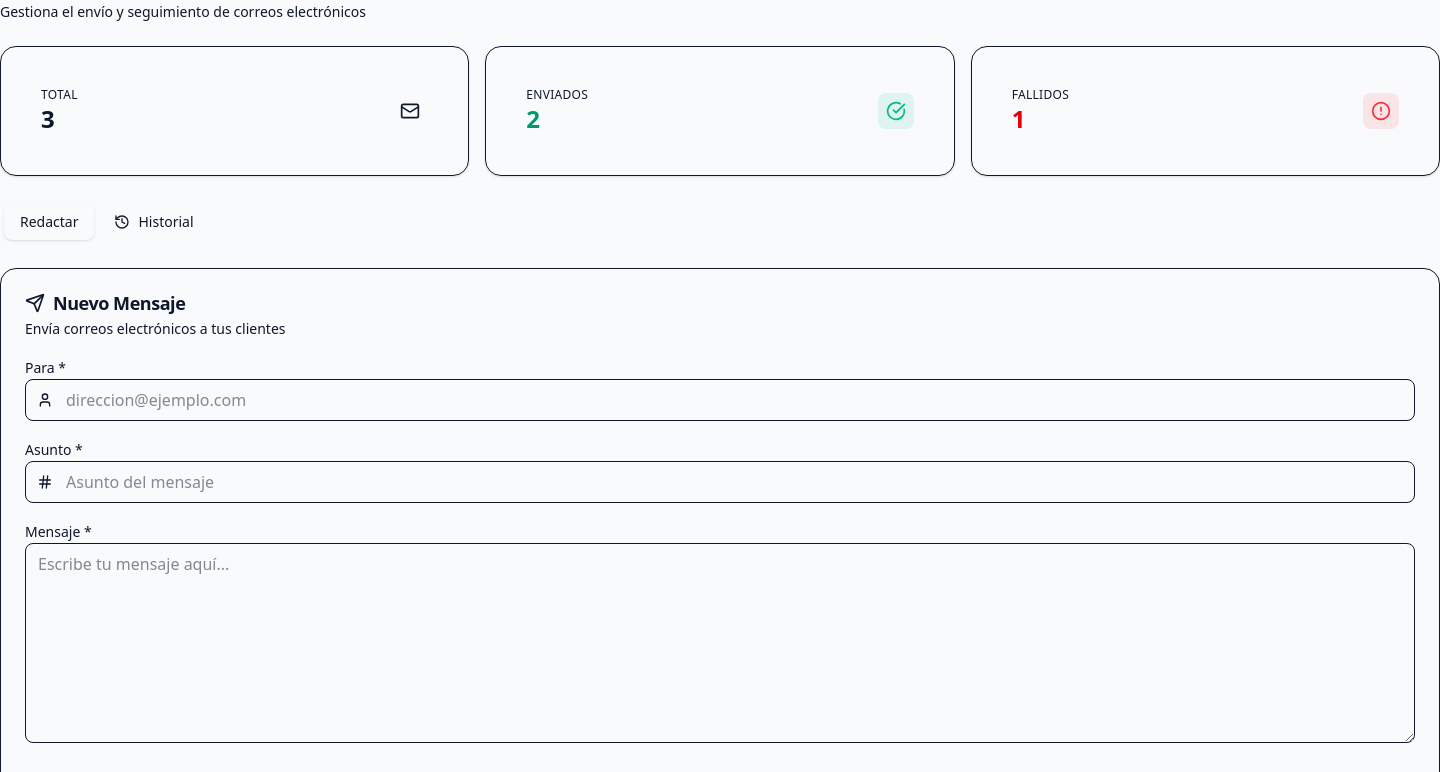
Test: MailPage › debe mostrar error si el email no es válido
Type "correo-malo" into the field with placeholder "direccion@ejemplo.com" at (720, 400), box [25, 379, 1415, 421]
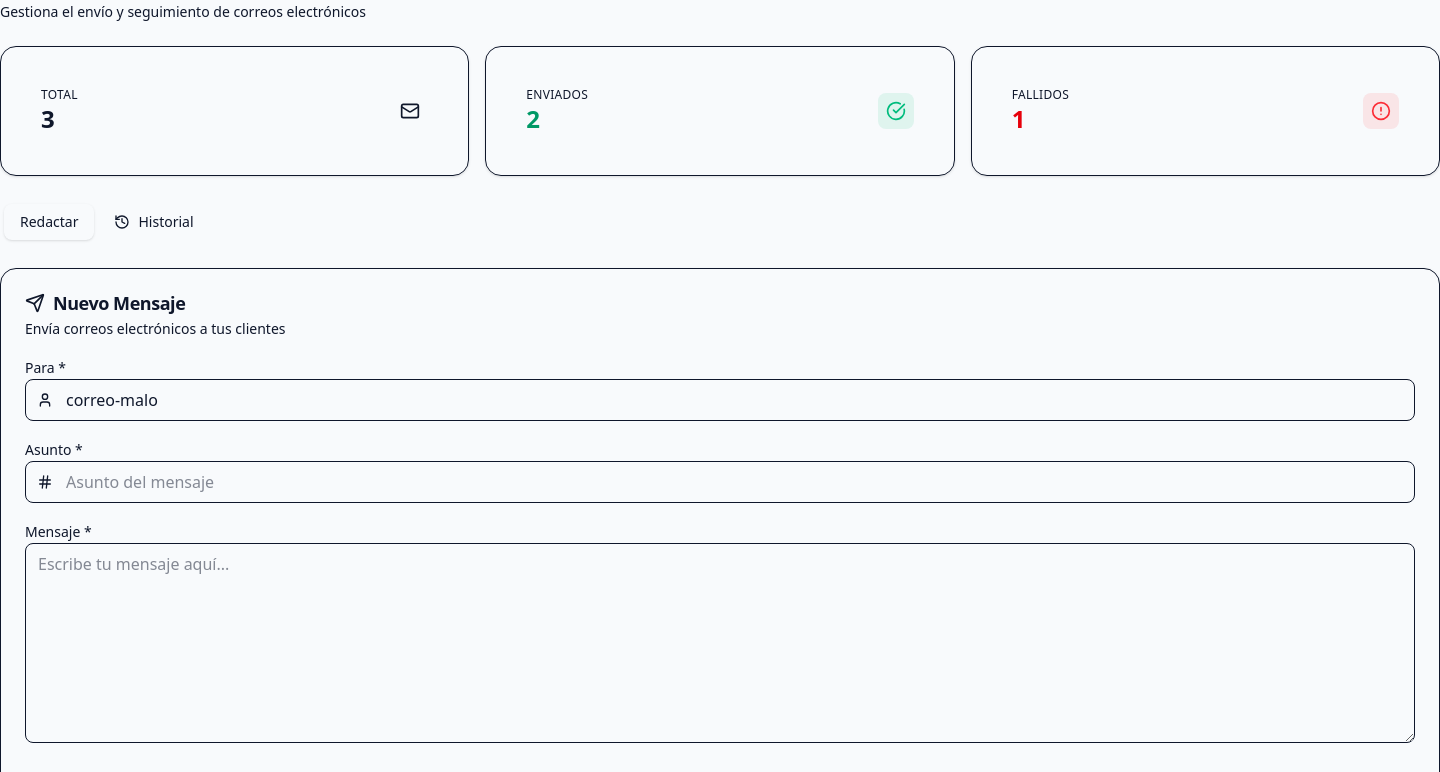
Type "Asunto" into the field with placeholder "Asunto del mensaje" at (720, 482), box [25, 461, 1415, 503]
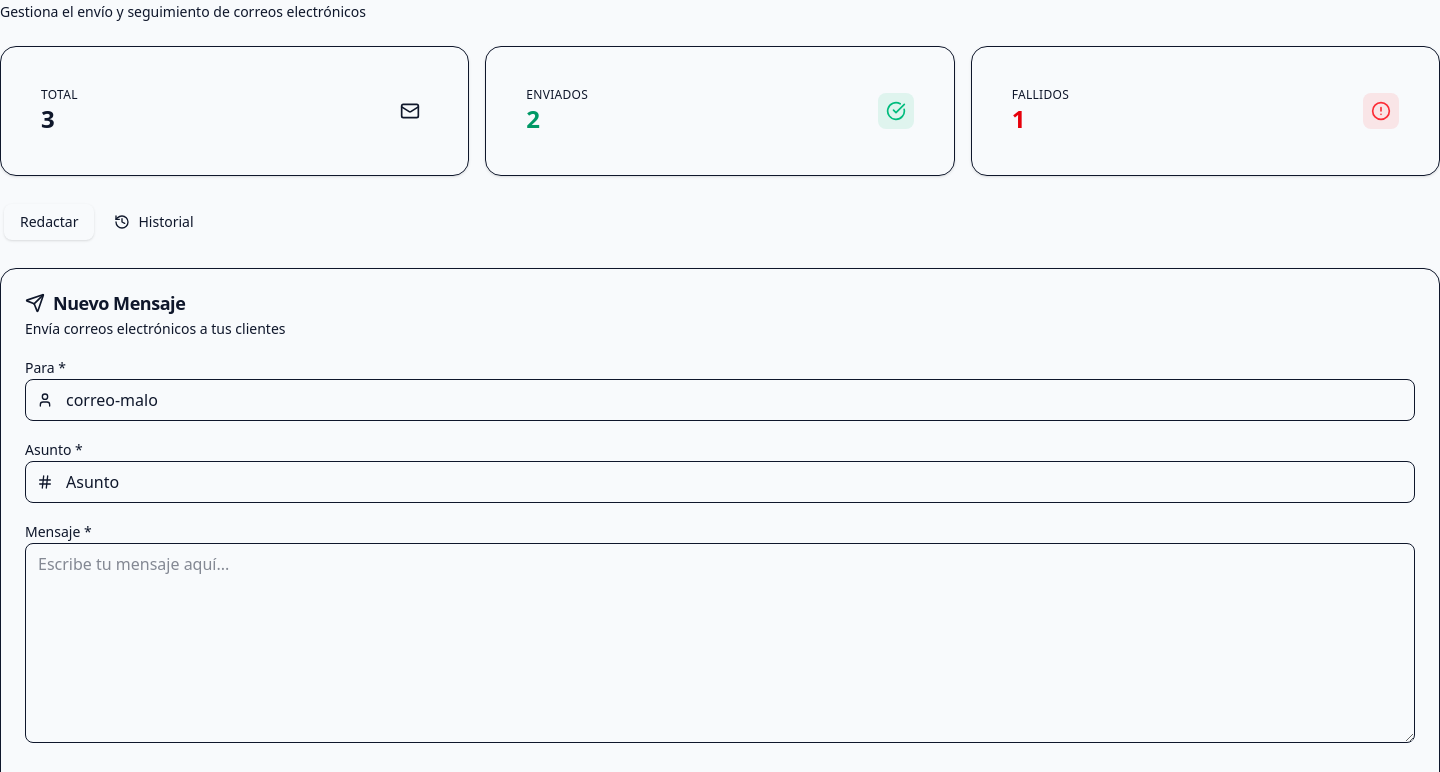
Type "Mensaje" into the text box with placeholder "Escribe tu mensaje aquí..." at (720, 643), box [25, 543, 1415, 743]
(page scrolled)
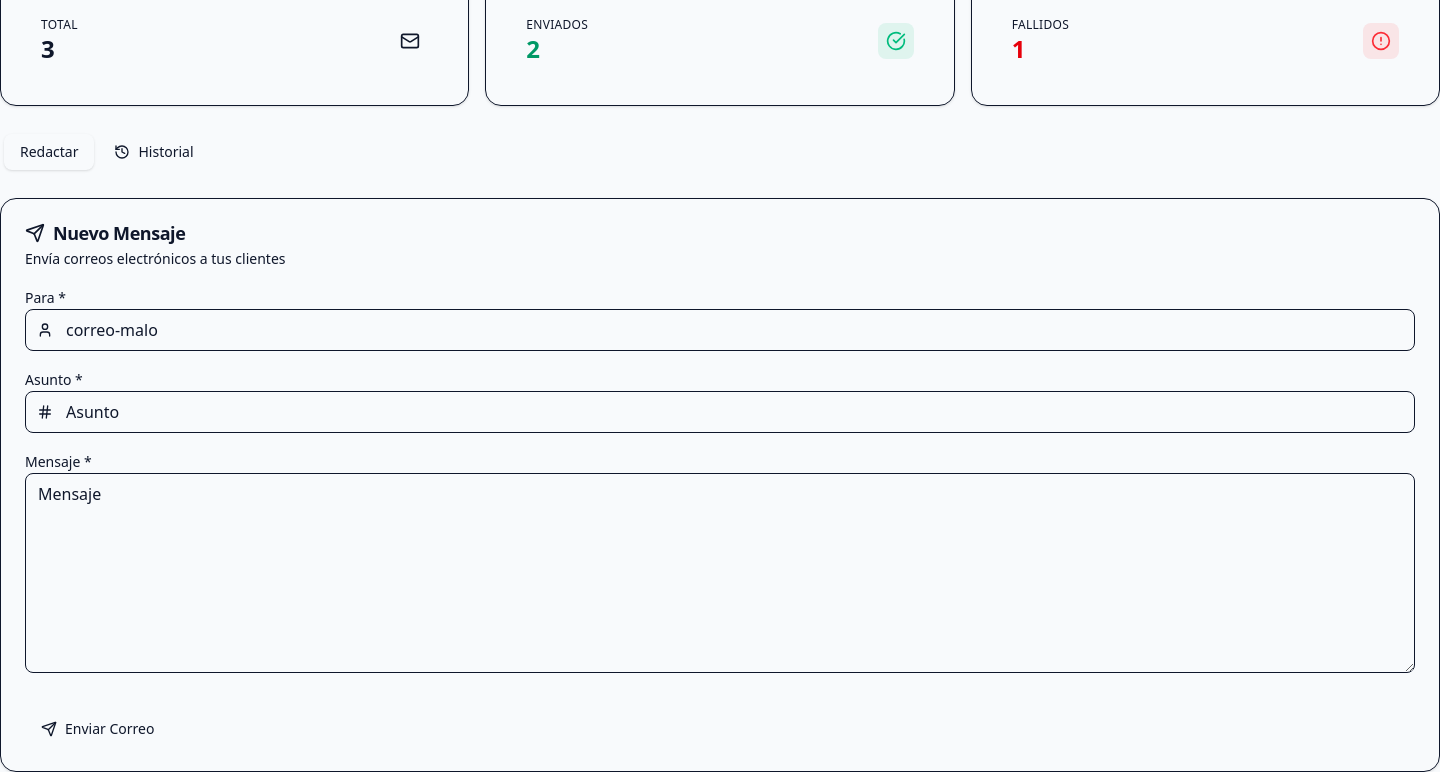
Submit the form with placeholder "direccion@ejemplo.com", box [25, 285, 1415, 747]
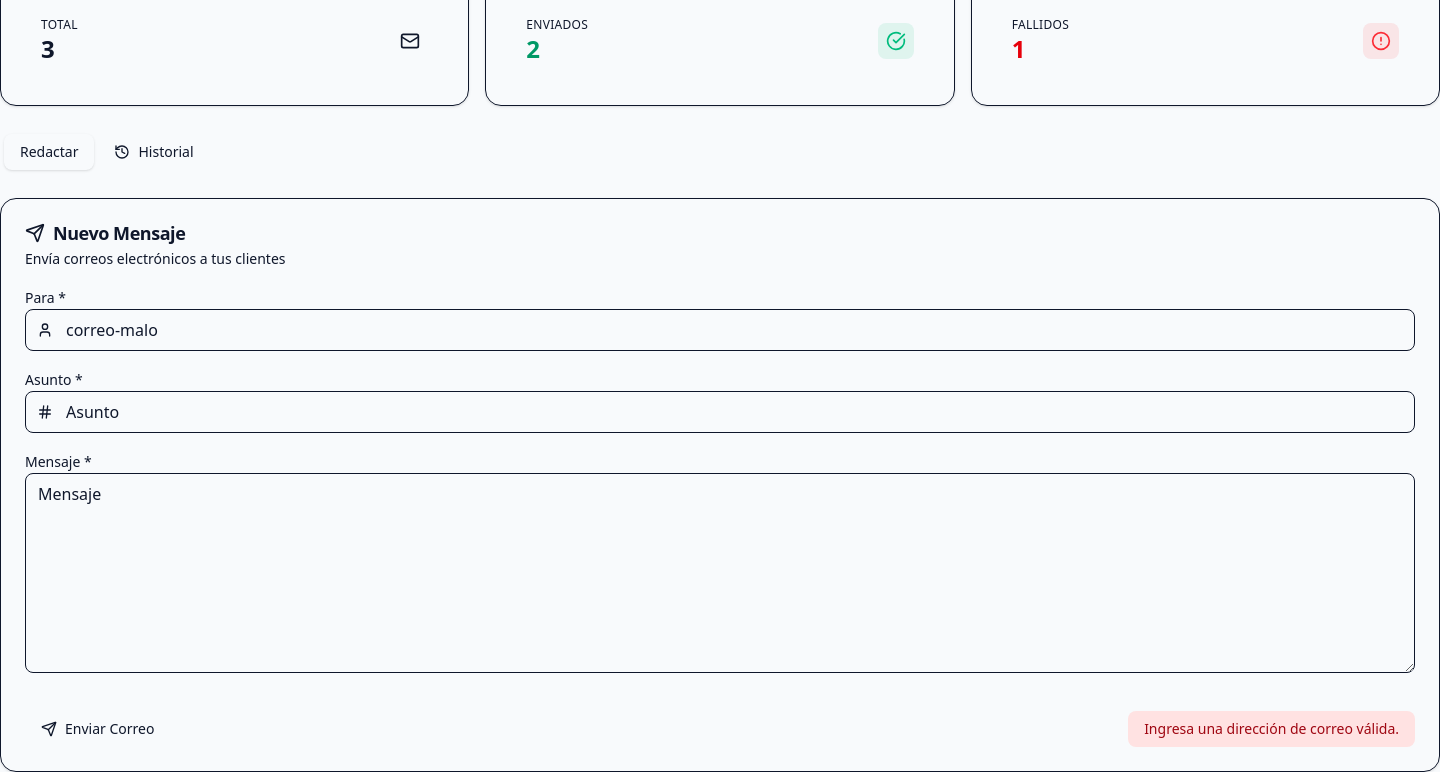
Result: the text "Ingresa una dirección de correo válida." is shown at [1128, 711, 1415, 747]
